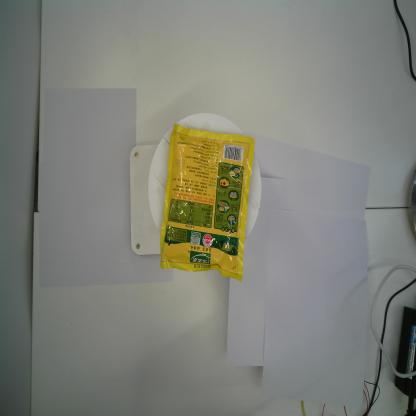Seasoner: (159, 122, 256, 282)
